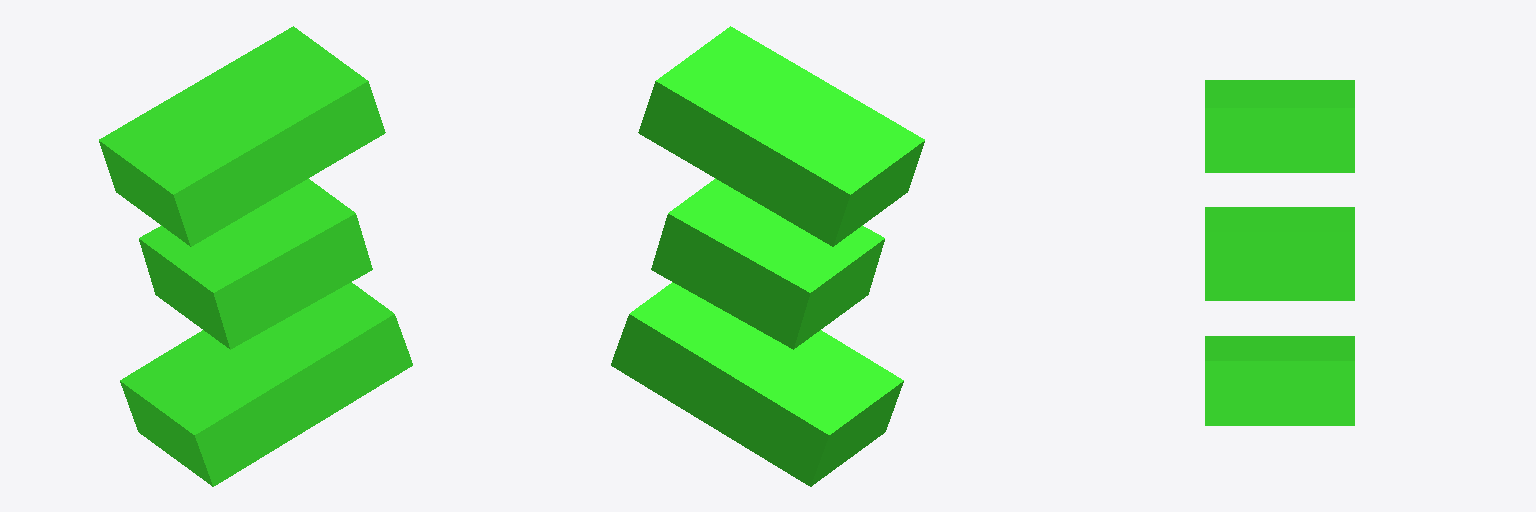
3 views of the same model, side by side, from view 1: azimuth 30°, elevation 25°; view 2: azimuth 150°, elevation 25°; view 3: azimuth 270°, elevation 25° (orthographic).
Parts seen in each view (by area): view 1: Cube; view 2: Cube; view 3: Cube.
Boxes of the visible parts, x1,y1,x2,y2 form: Cube: [99, 26, 412, 486]; Cube: [611, 26, 924, 486]; Cube: [1205, 80, 1354, 425].
Size of the model in its own units: 0.9333 by 1.37 by 0.5051.
Materials: 1 (1 with a texture image).